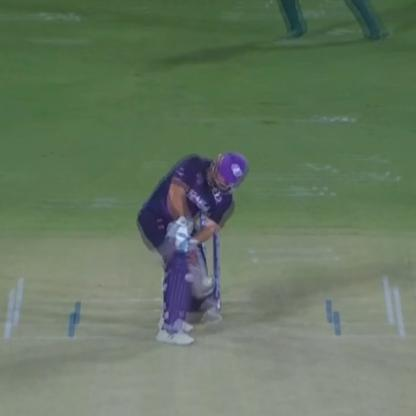ball: (178, 269, 196, 285)
bat: (184, 229, 216, 303)
pitch: (3, 280, 415, 416)
